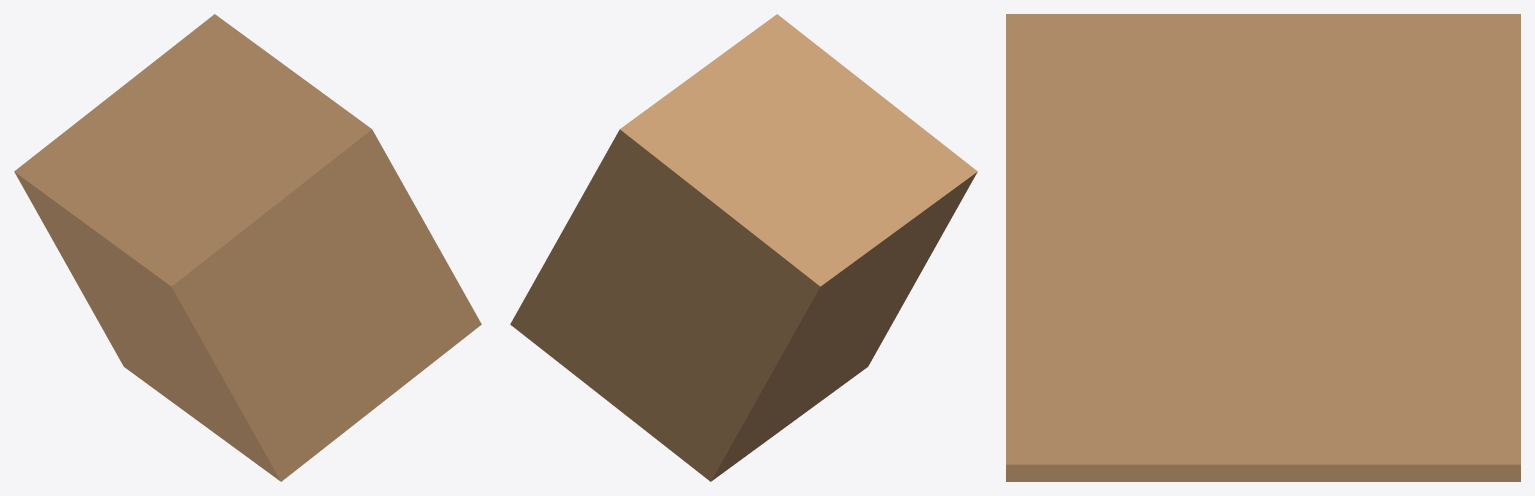
The picture shows the model from 3 angles, left to right: view 1: azimuth 30°, elevation 25°; view 2: azimuth 150°, elevation 25°; view 3: azimuth 270°, elevation 25°; orthographic projection. The views are drawn at different scales.
Parts seen in each view (by area): view 1: visual.obj; view 2: visual.obj; view 3: visual.obj.
Part boxes in pixels (x1=…): visual.obj: x1=14, y1=14, x2=481, y2=481; visual.obj: x1=510, y1=14, x2=977, y2=481; visual.obj: x1=1006, y1=14, x2=1520, y2=481.
Size of the model in its own units: 0.4145 by 0.4219 by 0.3642.
